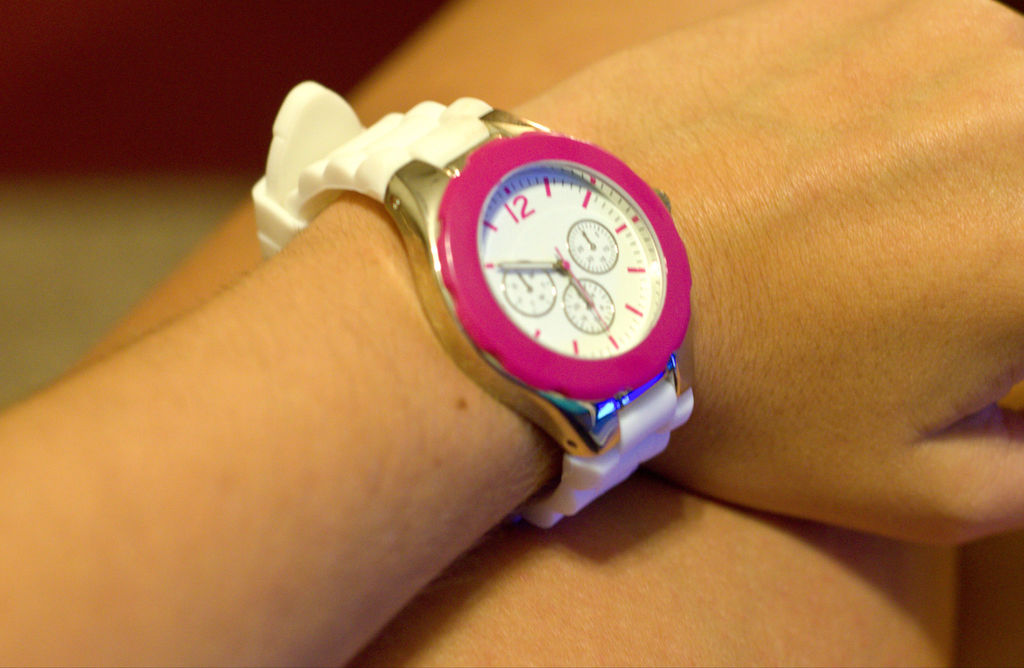watch: (232, 75, 696, 507)
